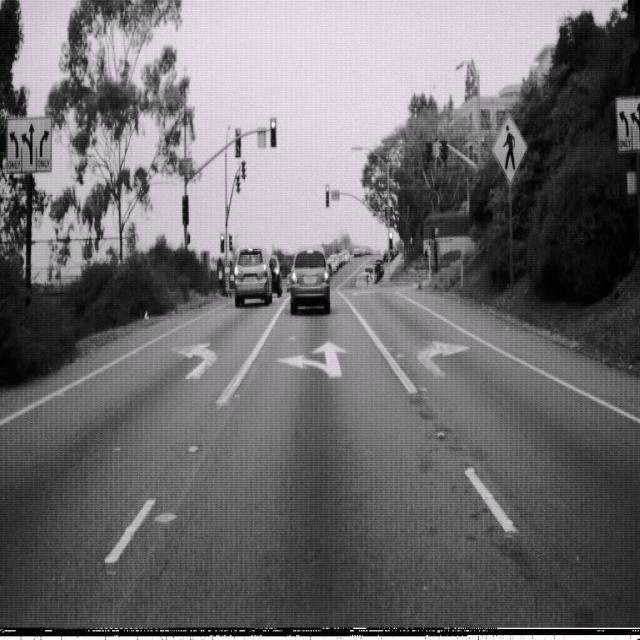pedestrianCrossing: (492, 112, 529, 186)
